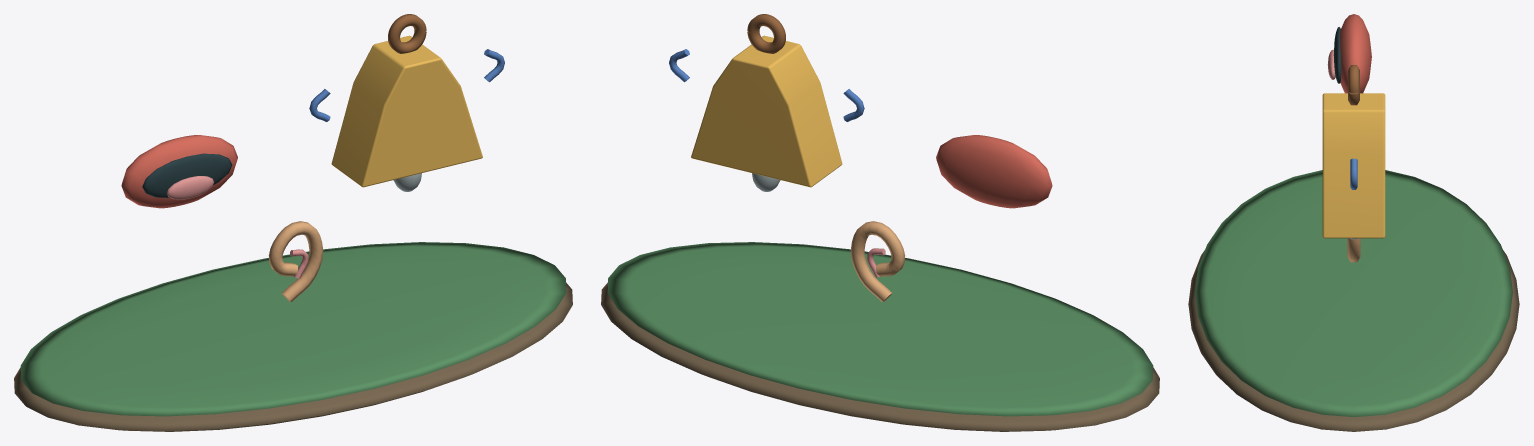
File: complete-first-voice-and-sound.glb
The picture shows the model from 3 angles, left to right: view 1: azimuth 30°, elevation 25°; view 2: azimuth 150°, elevation 25°; view 3: azimuth 270°, elevation 25°; orthographic projection. The views are drawn at different scales.
Visible parts, largest first — view 1: complete-first-voice-and-sound_surface_01, complete-first-voice-and-sound_surface_05, complete-first-voice-and-sound_surface_00, complete-first-voice-and-sound_surface_02, complete-first-voice-and-sound_surface_09, complete-first-voice-and-sound_surface_03, complete-first-voice-and-sound_surface_04, complete-first-voice-and-sound_surface_07, complete-first-voice-and-sound_surface_08; view 2: complete-first-voice-and-sound_surface_01, complete-first-voice-and-sound_surface_05, complete-first-voice-and-sound_surface_00, complete-first-voice-and-sound_surface_02, complete-first-voice-and-sound_surface_09, complete-first-voice-and-sound_surface_07, complete-first-voice-and-sound_surface_08; view 3: complete-first-voice-and-sound_surface_01, complete-first-voice-and-sound_surface_05, complete-first-voice-and-sound_surface_00, complete-first-voice-and-sound_surface_02, complete-first-voice-and-sound_surface_07, complete-first-voice-and-sound_surface_03.
Part boxes in pixels (x1,y1,x2,y2): complete-first-voice-and-sound_surface_01: (20, 242, 566, 416); complete-first-voice-and-sound_surface_05: (331, 35, 482, 187); complete-first-voice-and-sound_surface_00: (14, 282, 572, 431); complete-first-voice-and-sound_surface_02: (121, 135, 237, 208); complete-first-voice-and-sound_surface_09: (268, 221, 323, 302); complete-first-voice-and-sound_surface_03: (142, 153, 232, 197); complete-first-voice-and-sound_surface_04: (166, 176, 308, 278); complete-first-voice-and-sound_surface_07: (388, 14, 426, 53); complete-first-voice-and-sound_surface_08: (309, 49, 504, 121); complete-first-voice-and-sound_surface_01: (607, 242, 1153, 416); complete-first-voice-and-sound_surface_05: (691, 35, 842, 187); complete-first-voice-and-sound_surface_00: (601, 282, 1159, 431); complete-first-voice-and-sound_surface_02: (936, 135, 1052, 208); complete-first-voice-and-sound_surface_09: (850, 221, 905, 302); complete-first-voice-and-sound_surface_07: (747, 14, 785, 53); complete-first-voice-and-sound_surface_08: (669, 49, 864, 121); complete-first-voice-and-sound_surface_01: (1195, 170, 1512, 416); complete-first-voice-and-sound_surface_05: (1322, 93, 1385, 238); complete-first-voice-and-sound_surface_00: (1188, 250, 1519, 431); complete-first-voice-and-sound_surface_02: (1340, 14, 1371, 93); complete-first-voice-and-sound_surface_07: (1348, 65, 1359, 105); complete-first-voice-and-sound_surface_03: (1333, 27, 1341, 83).
Size of the model in its own units: 4.56 by 2.56 by 2.5.
